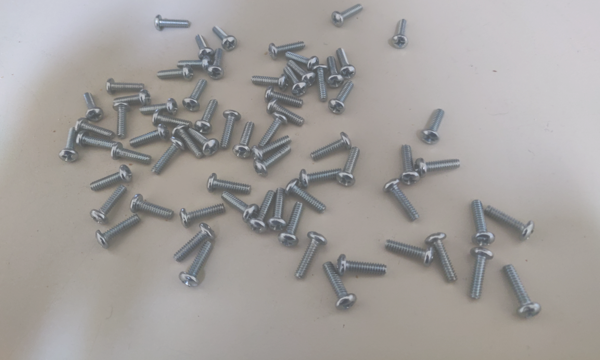shortscrew: (503, 264, 542, 319), (484, 205, 535, 241), (425, 233, 459, 284), (323, 261, 357, 311), (174, 223, 216, 263), (96, 214, 141, 250), (179, 241, 213, 288), (295, 232, 328, 279), (384, 178, 420, 221), (285, 178, 327, 214), (385, 239, 436, 268), (90, 186, 128, 224), (152, 137, 185, 177), (470, 248, 495, 300), (310, 132, 352, 162), (254, 145, 292, 178), (221, 191, 259, 224), (172, 124, 205, 160), (278, 202, 304, 247), (180, 203, 225, 229), (130, 194, 174, 220), (90, 165, 132, 192), (472, 200, 496, 247), (259, 112, 289, 149), (337, 255, 387, 277), (267, 99, 305, 127), (252, 136, 292, 161), (207, 173, 252, 195), (336, 147, 360, 187), (129, 124, 169, 148), (187, 127, 220, 156), (415, 158, 460, 179), (111, 143, 152, 165), (265, 86, 304, 109), (220, 110, 242, 150), (75, 118, 115, 140), (329, 80, 354, 115), (421, 109, 445, 145), (299, 169, 342, 189), (195, 99, 218, 135), (183, 79, 208, 112), (233, 122, 255, 159), (288, 60, 317, 88), (401, 145, 421, 185), (284, 66, 309, 97), (331, 4, 364, 27), (269, 41, 306, 61), (140, 98, 178, 117), (59, 127, 79, 163), (83, 92, 105, 123), (286, 52, 320, 72), (212, 26, 238, 52), (153, 110, 192, 127), (106, 78, 145, 95), (78, 130, 112, 149), (252, 74, 289, 91), (114, 90, 151, 107), (114, 102, 131, 139), (337, 48, 356, 81), (313, 64, 329, 103), (327, 56, 345, 89), (157, 65, 194, 81), (154, 15, 191, 31), (178, 55, 212, 71), (208, 49, 225, 80), (196, 35, 216, 61), (392, 19, 409, 49)
